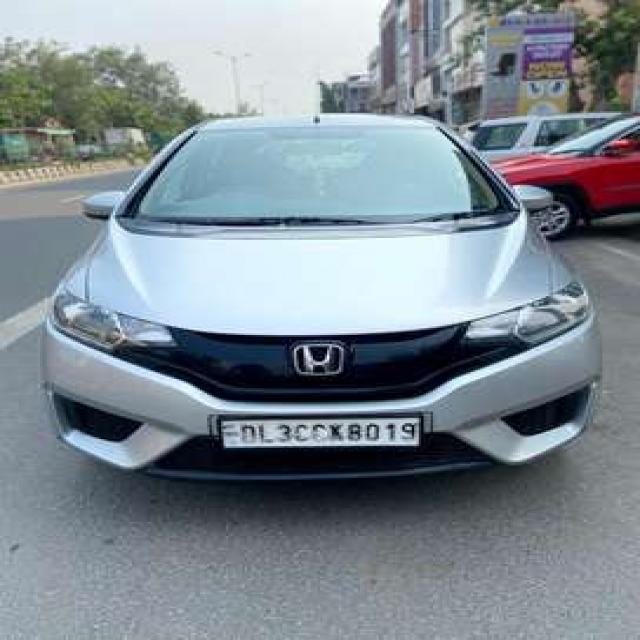Plate: (220, 417, 417, 445)
